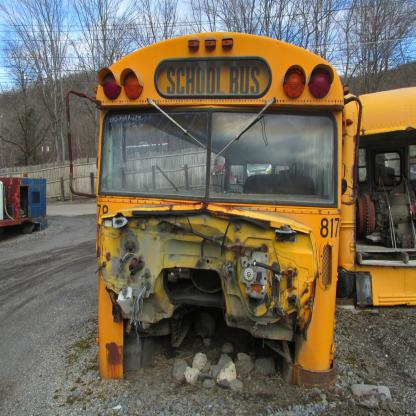Bus: (65, 30, 356, 382), (342, 83, 416, 307)
